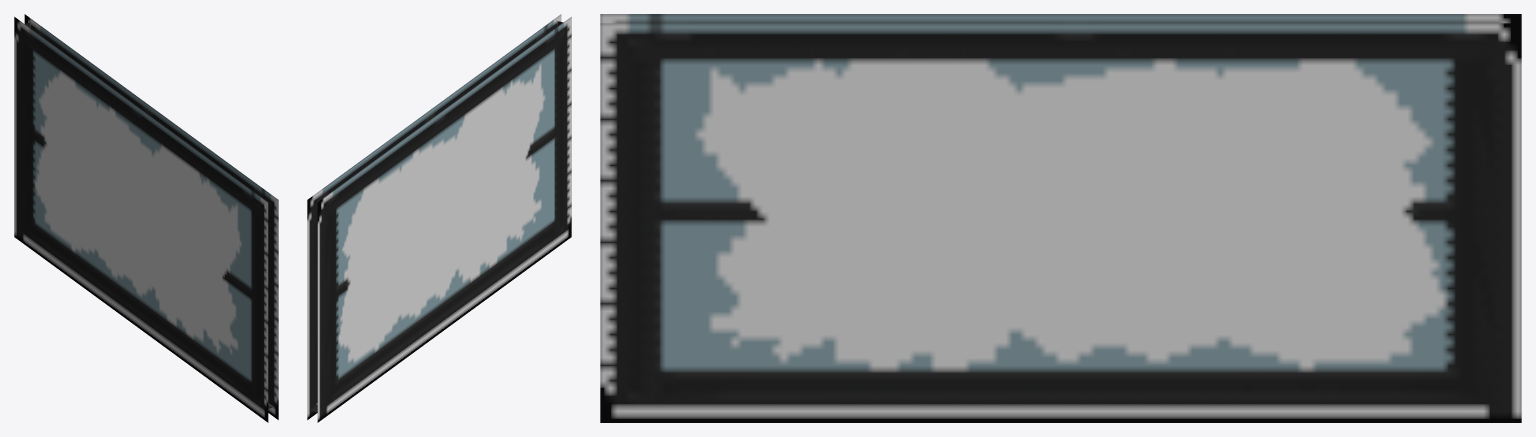
File: pz_native_fixtures_windows_metal_68_frame.obj
3 views of the same model, side by side, from view 1: azimuth 30°, elevation 25°; view 2: azimuth 150°, elevation 25°; view 3: azimuth 270°, elevation 25° (orthographic). The views are drawn at different scales.
Parts seen in each view (by area): view 1: pz_native_fixtures_windows_metal_68_frame; view 2: pz_native_fixtures_windows_metal_68_frame; view 3: pz_native_fixtures_windows_metal_68_frame.
Part boxes in pixels (bbox=[...]): pz_native_fixtures_windows_metal_68_frame: bbox=[14, 14, 278, 422]; pz_native_fixtures_windows_metal_68_frame: bbox=[307, 14, 571, 422]; pz_native_fixtures_windows_metal_68_frame: bbox=[600, 14, 1521, 422].
Size of the model in its own units: 0.04 by 0.8125 by 1.7.
Materials: 1 (1 with a texture image).
